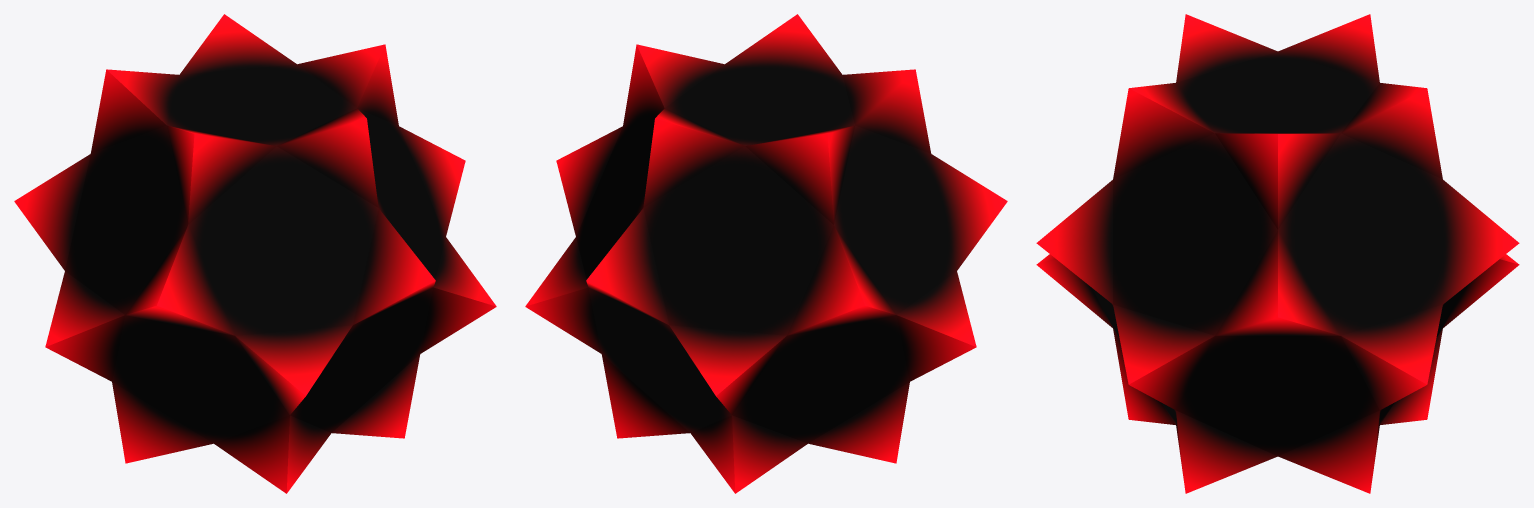
The model's file is Boss.fbx.
3 renders of one model, left to right at view 1: azimuth 30°, elevation 25°; view 2: azimuth 150°, elevation 25°; view 3: azimuth 270°, elevation 25°, orthographic. The views are drawn at different scales.
Visible parts, largest first — view 1: Boss_bake; view 2: Boss_bake; view 3: Boss_bake.
Boxes of the visible parts, x1,y1,x2,y2 form: Boss_bake: (14,14,496,493); Boss_bake: (525,14,1007,493); Boss_bake: (1036,14,1519,493).
Size of the model in its own units: 0.1856 by 0.1765 by 0.1501.
1 material, 1 textured.
